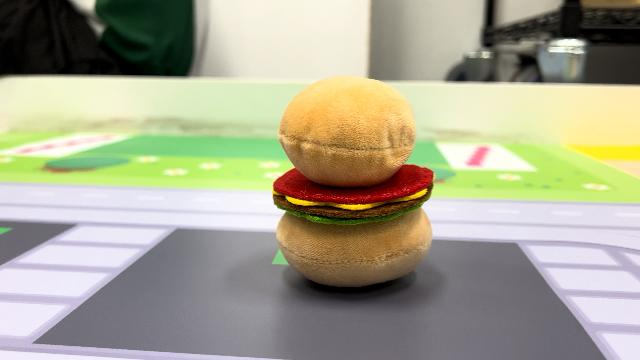burger: (266, 72, 440, 290)
